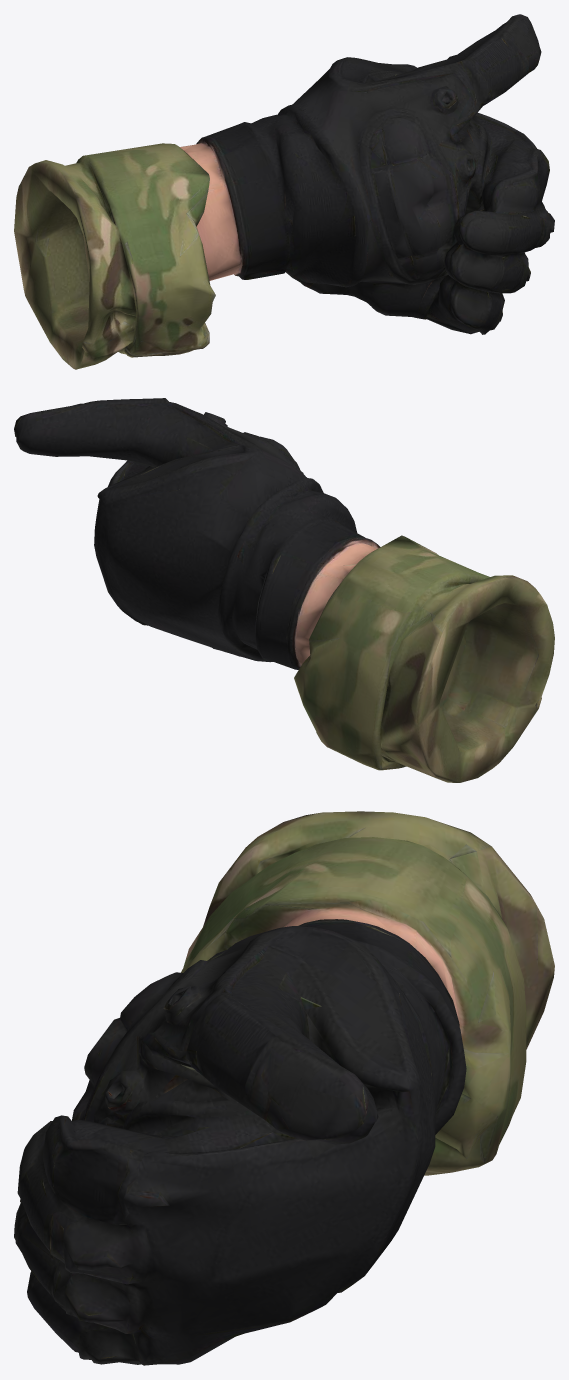
File: hand_right.glb
The picture shows the model from 3 angles, top to bottom: view 1: azimuth 30°, elevation 25°; view 2: azimuth 150°, elevation 25°; view 3: azimuth 270°, elevation 25°; orthographic projection. The views are drawn at different scales.
Visible parts, largest first — view 1: Mesh_0; view 2: Mesh_0; view 3: Mesh_0.
Part boxes in pixels (x1,y1,x2,y2): Mesh_0: (14,14,554,369); Mesh_0: (14,398,554,782); Mesh_0: (14,811,554,1365).
Size of the model in its own units: 1.9 by 0.937 by 1.13.
1 material, 1 textured.
